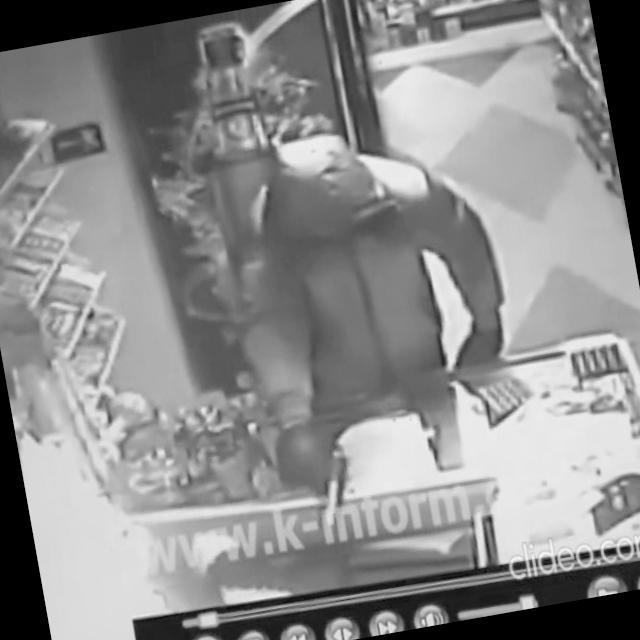gun: (310, 441, 361, 530)
person with a gun: (210, 107, 542, 539)
